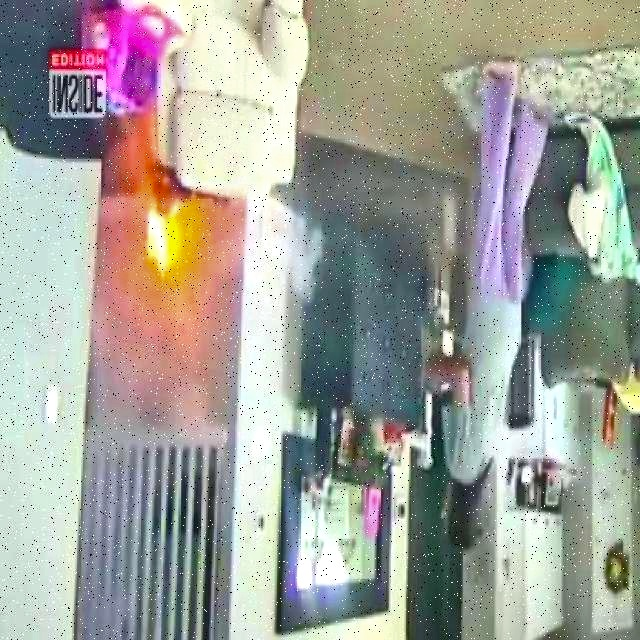fire: (107, 162, 218, 291)
